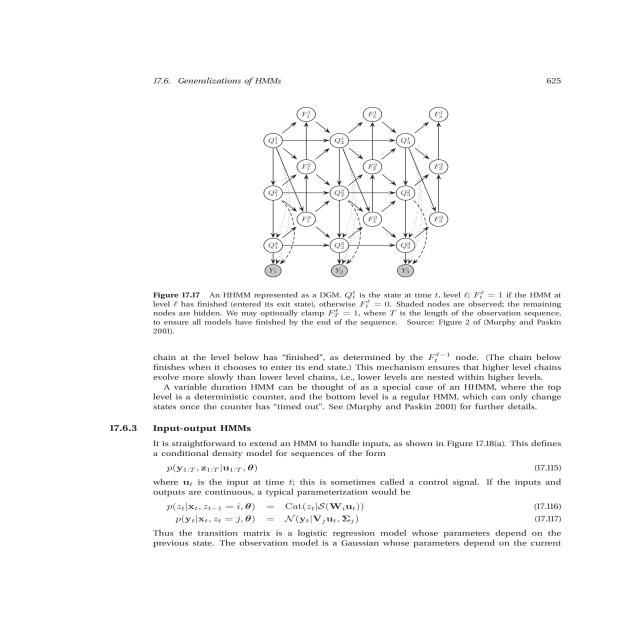diagram: (90, 101, 585, 340)
